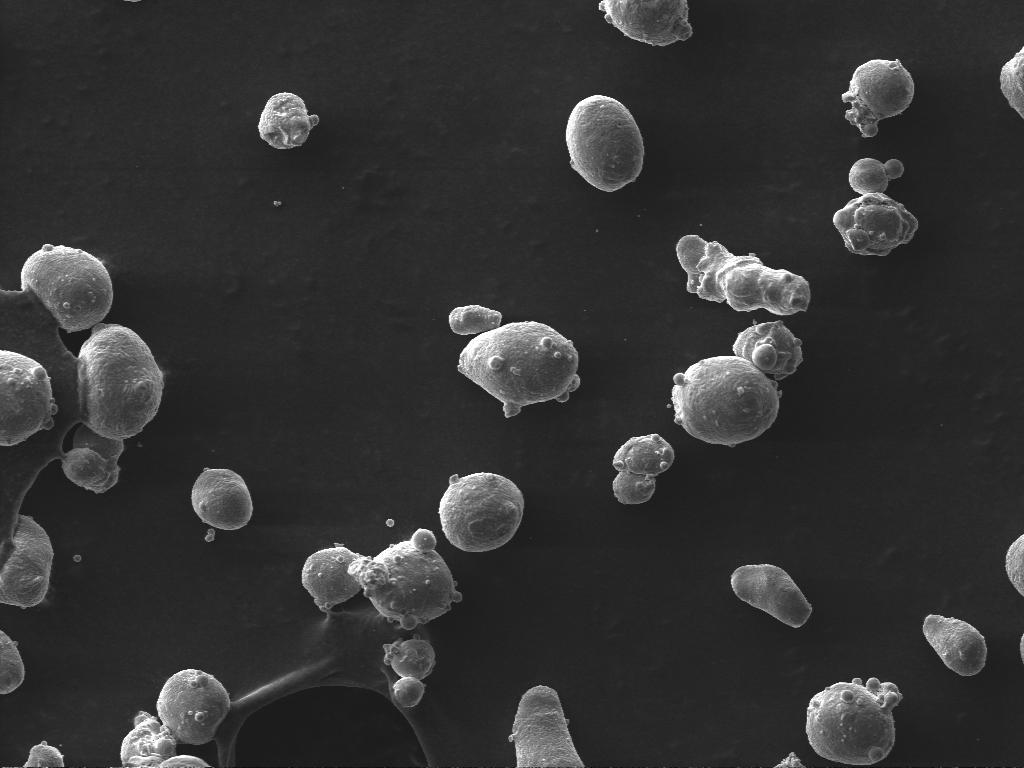Powder: (302, 530, 462, 630), (674, 320, 802, 445), (450, 306, 578, 417), (676, 236, 810, 315), (78, 324, 164, 440), (806, 678, 902, 765), (834, 158, 918, 255), (22, 244, 112, 331), (566, 96, 644, 191), (440, 472, 524, 552), (510, 686, 584, 768), (0, 350, 58, 445), (842, 60, 914, 136), (156, 670, 230, 743), (730, 564, 812, 628), (120, 712, 208, 768), (0, 516, 54, 607), (62, 424, 124, 494), (598, 0, 692, 46), (614, 434, 674, 504), (922, 614, 986, 676), (192, 468, 252, 529), (384, 638, 436, 708), (258, 92, 318, 149), (1000, 48, 1024, 117), (0, 630, 24, 693), (1006, 534, 1024, 595), (24, 742, 64, 768)
